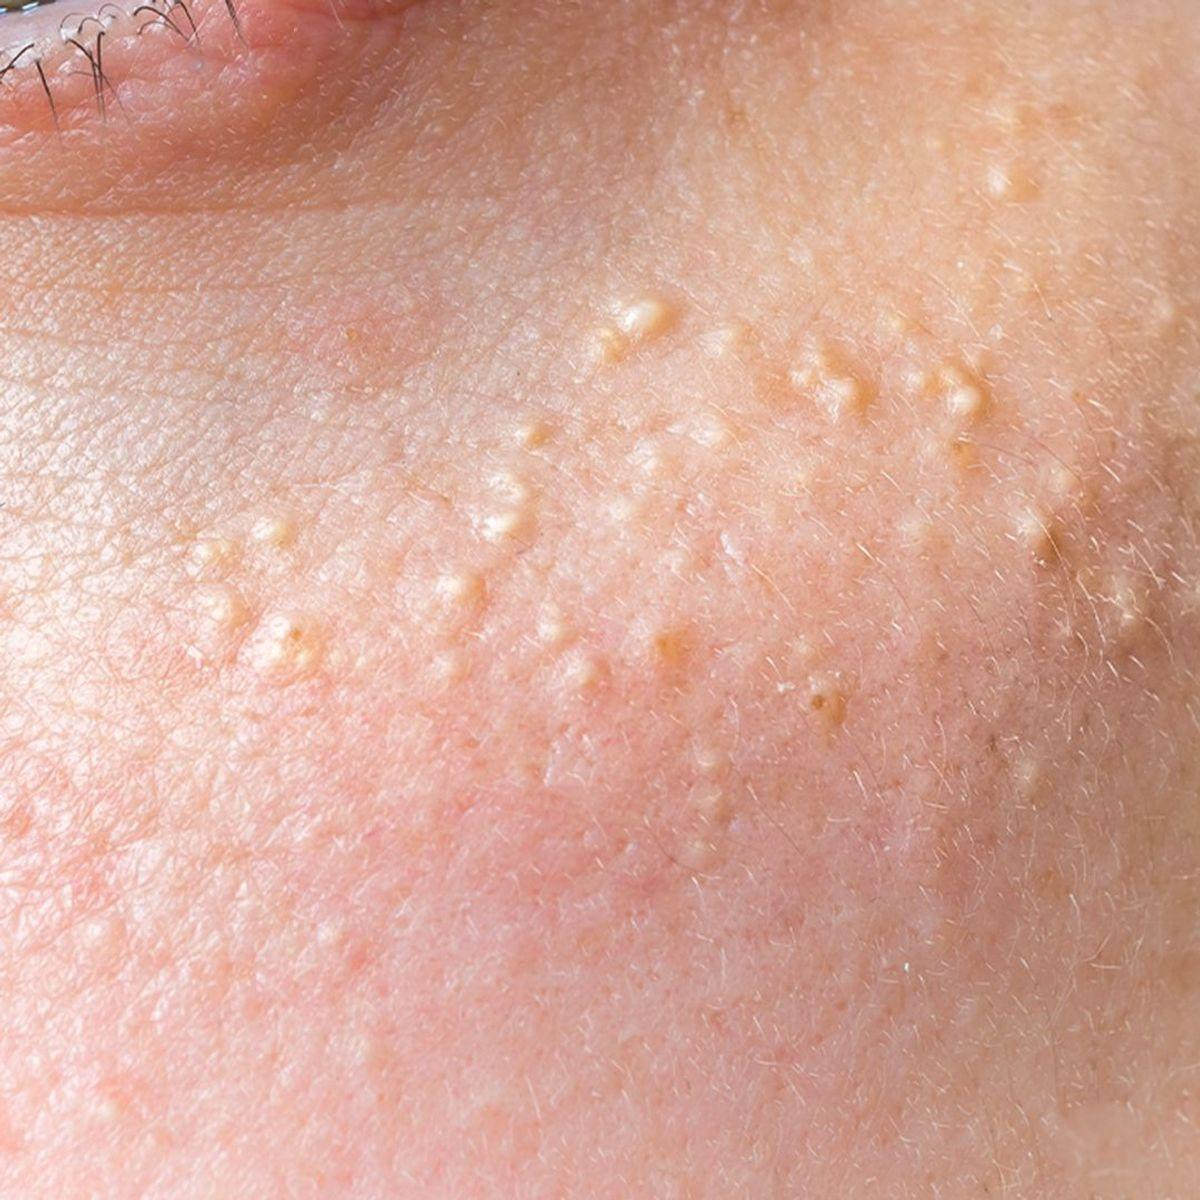milium: (140, 486, 359, 708), (395, 564, 637, 713), (1002, 462, 1166, 674), (444, 395, 564, 558), (792, 288, 874, 454), (907, 342, 1027, 449), (562, 284, 698, 376)
